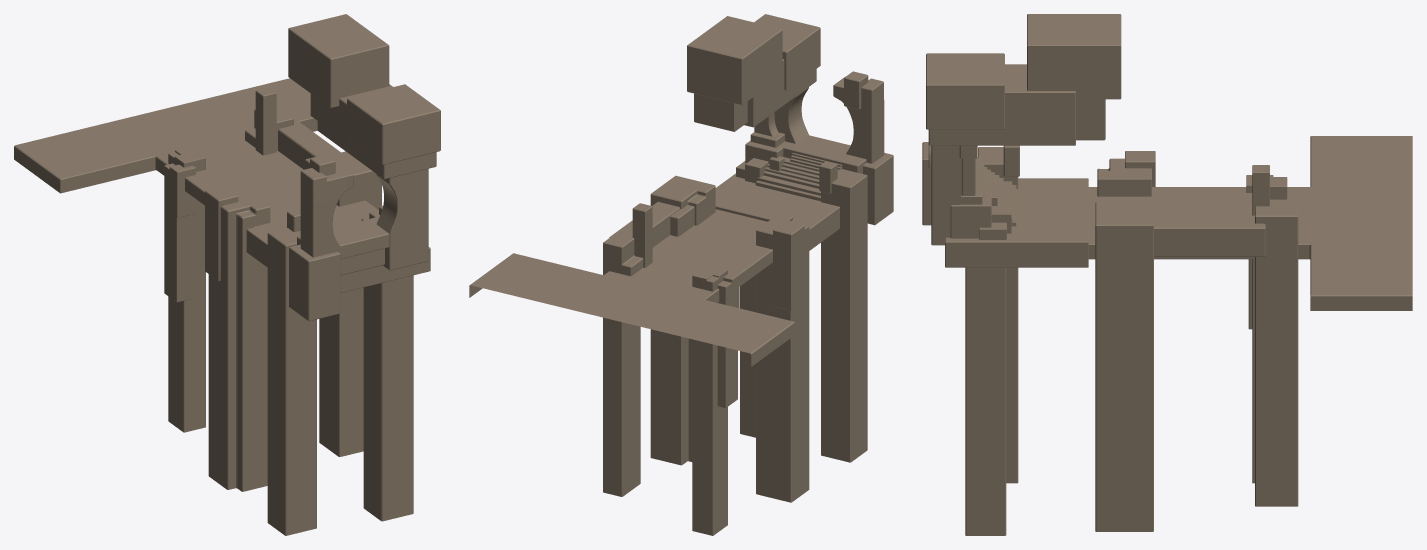
File: RuinsBridge.fbx
The picture shows the model from 3 angles, left to right: view 1: azimuth 30°, elevation 25°; view 2: azimuth 150°, elevation 25°; view 3: azimuth 270°, elevation 25°; orthographic projection. The views are drawn at different scales.
Parts seen in each view (by area): view 1: BridgeFloor, Bridge43, Bridge, Bridge3, Bridge2, Bridge22, Bridge1, Bridge52, Bridge20, Bridge55, Bridge50, Bridge27 (+9 smaller); view 2: BridgeFloor, Bridge, Bridge43, Bridge41, Bridge2, Bridge1, Bridge22, Bridge27, Bridge32, Bridge55, Bridge52, Bridge3 (+14 smaller); view 3: BridgeFloor, Bridge2, Bridge41, Bridge3, Bridge27, Bridge22, Bridge52, Bridge21, Bridge29, Bridge, Bridge20, Bridge43 (+7 smaller).
Part boxes in pixels (x1,y1,x2,y2): BridgeFloor: (14, 78, 338, 227); Bridge43: (208, 188, 270, 491); Bridge: (267, 228, 316, 535); Bridge3: (363, 275, 413, 521); Bridge2: (319, 151, 381, 456); Bridge22: (288, 14, 389, 107); Bridge1: (168, 146, 205, 432); Bridge52: (347, 84, 440, 164); Bridge20: (376, 168, 428, 270); Bridge55: (300, 165, 353, 257); Bridge50: (289, 244, 340, 321); Bridge27: (246, 200, 430, 292); BridgeFloor: (469, 209, 795, 366); Bridge: (821, 169, 867, 462); Bridge43: (756, 213, 809, 502); Bridge41: (603, 229, 643, 496); Bridge2: (650, 175, 715, 465); Bridge1: (692, 264, 727, 535); Bridge22: (687, 16, 782, 104); Bridge27: (715, 173, 839, 250); Bridge32: (773, 220, 804, 310); Bridge55: (833, 76, 884, 163); Bridge52: (754, 14, 820, 90); Bridge3: (740, 275, 755, 437); BridgeFloor: (1088, 136, 1412, 310); Bridge2: (1095, 202, 1153, 531); Bridge41: (1255, 205, 1298, 506); Bridge3: (965, 267, 1006, 535); Bridge27: (945, 178, 1088, 267); Bridge22: (1027, 14, 1121, 99); Bridge52: (926, 53, 1004, 129); Bridge21: (928, 64, 1075, 145); Bridge29: (1154, 215, 1265, 256); Bridge: (978, 147, 1018, 483); Bridge20: (931, 145, 961, 245); Bridge43: (1097, 158, 1151, 196).
Size of the model in its own units: 40.47 by 58.15 by 52.43.
